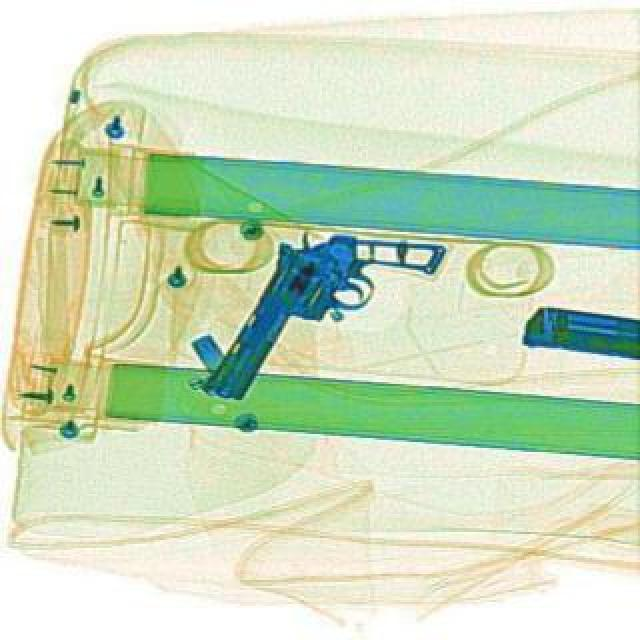gun: (186, 178, 446, 454)
